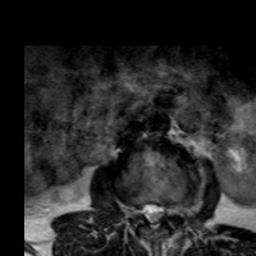CCS_normal: (148, 191, 157, 238)
LFS_normal: (166, 192, 176, 224)
LLS_normal: (157, 192, 166, 229)
RFS_stenosis: (131, 193, 141, 230)
RLS_normal: (140, 192, 148, 228)
